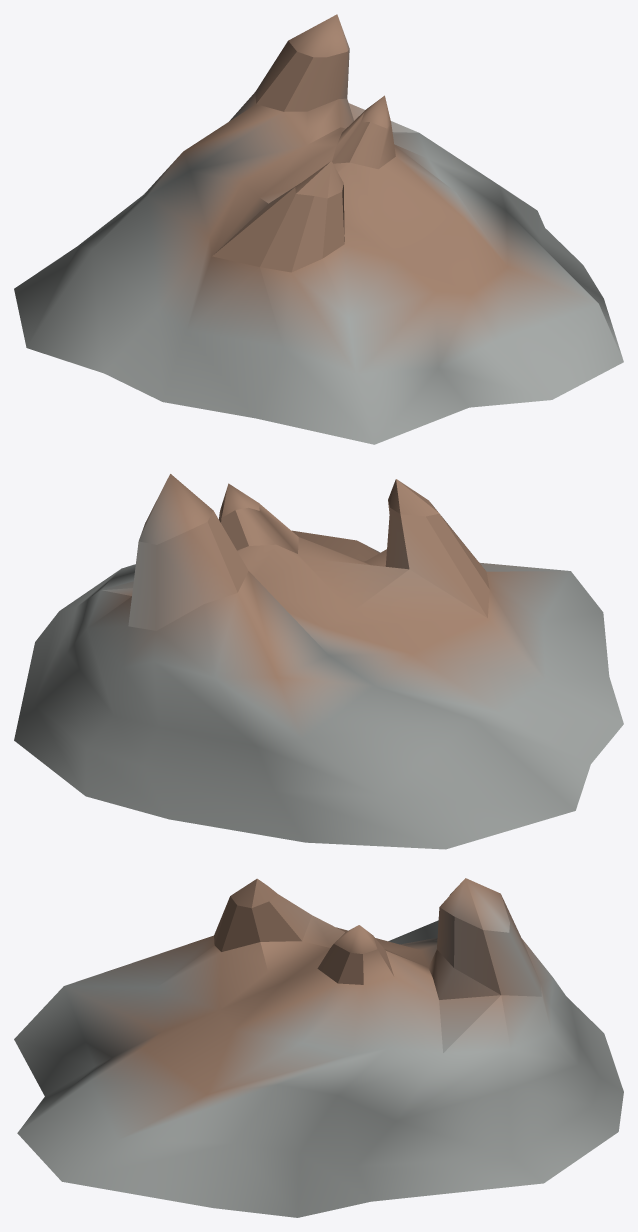
The picture shows the model from 3 angles, top to bottom: view 1: azimuth 30°, elevation 25°; view 2: azimuth 150°, elevation 25°; view 3: azimuth 270°, elevation 25°; orthographic projection. The views are drawn at different scales.
Parts seen in each view (by area): view 1: G:\FFXIV-MapTools\exports\s1f6\bg\ffxiv\sea_s1\fld\s1f5\bgpa; view 2: G:\FFXIV-MapTools\exports\s1f6\bg\ffxiv\sea_s1\fld\s1f5\bgpa; view 3: G:\FFXIV-MapTools\exports\s1f6\bg\ffxiv\sea_s1\fld\s1f5\bgpa.
Part boxes in pixels (<box>): G:\FFXIV-MapTools\exports\s1f6\bg\ffxiv\sea_s1\fld\s1f5\bgpa: <box>14,14,623,444</box>; G:\FFXIV-MapTools\exports\s1f6\bg\ffxiv\sea_s1\fld\s1f5\bgpa: <box>14,474,623,849</box>; G:\FFXIV-MapTools\exports\s1f6\bg\ffxiv\sea_s1\fld\s1f5\bgpa: <box>14,878,623,1217</box>.
Bounding box in the file's own units: 9.77 × 4.36 × 9.55.
